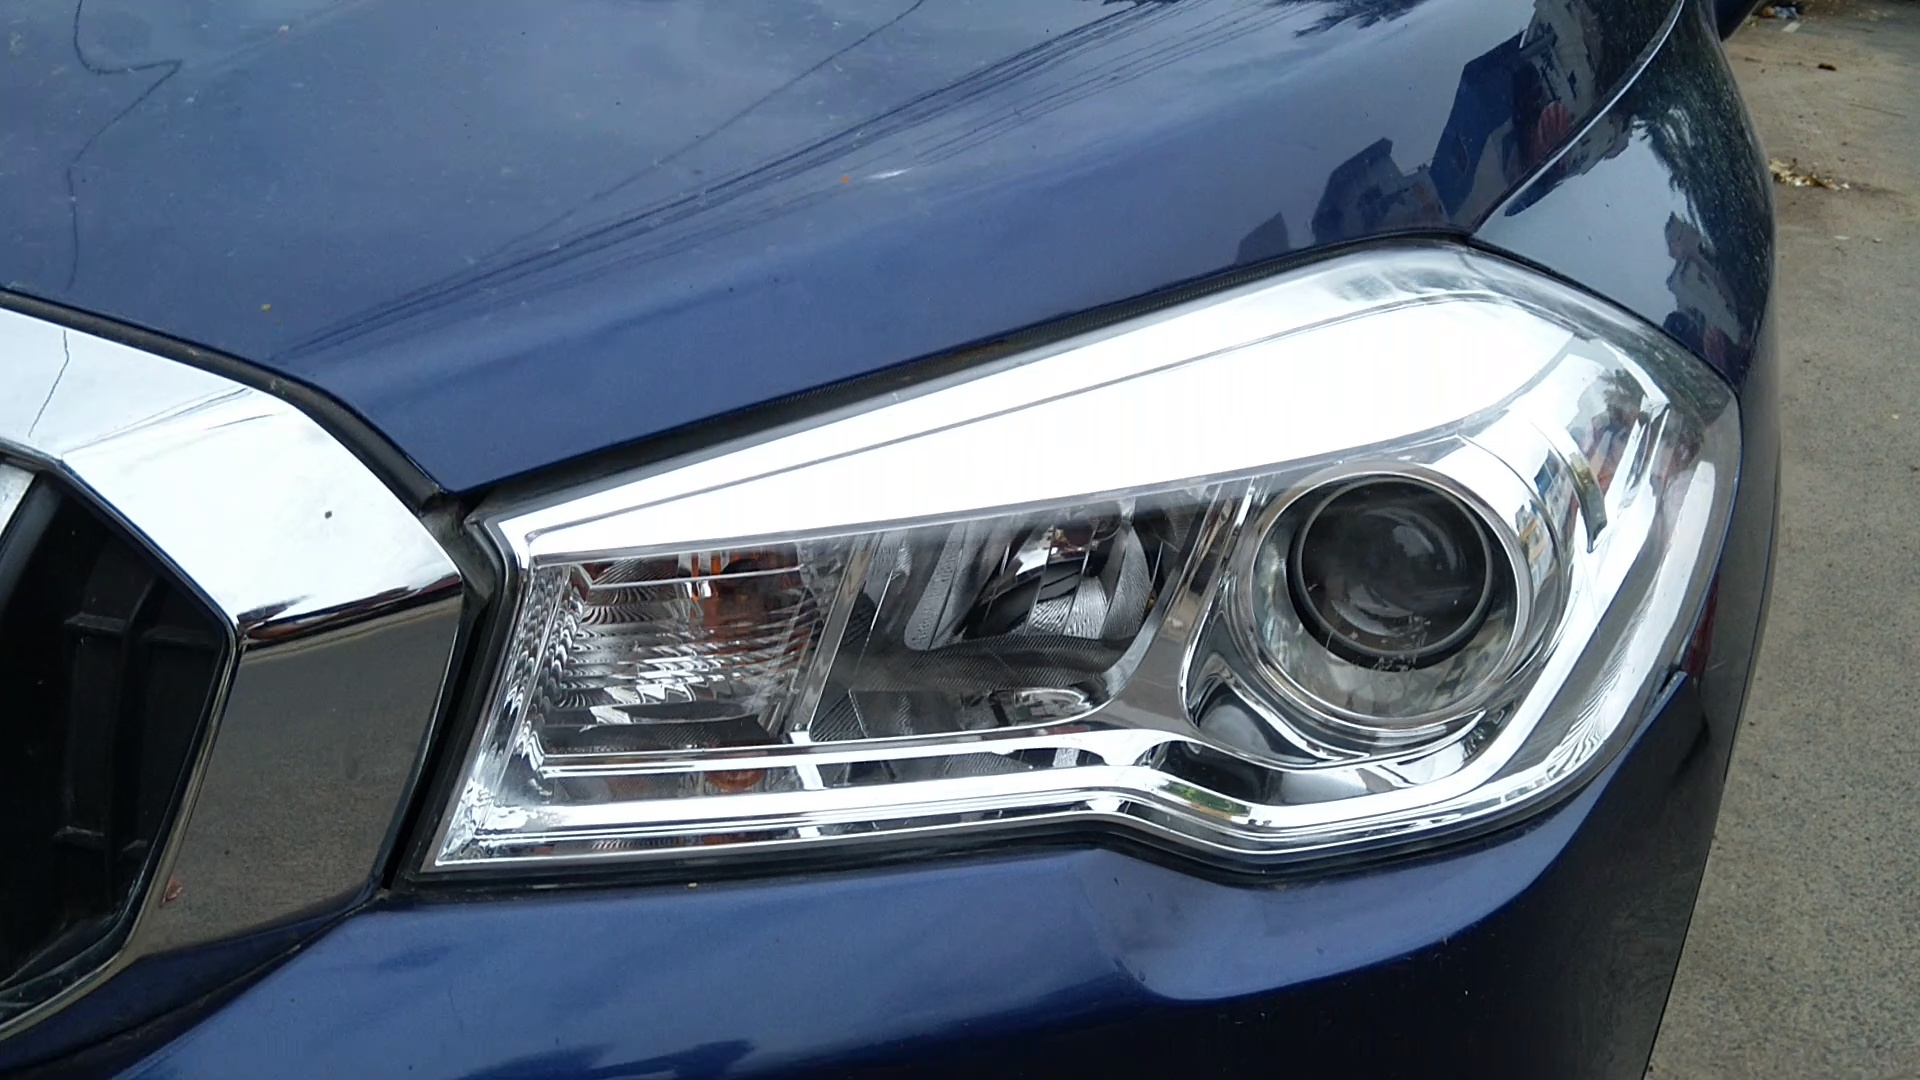headlamp: (394, 207, 1751, 935)
